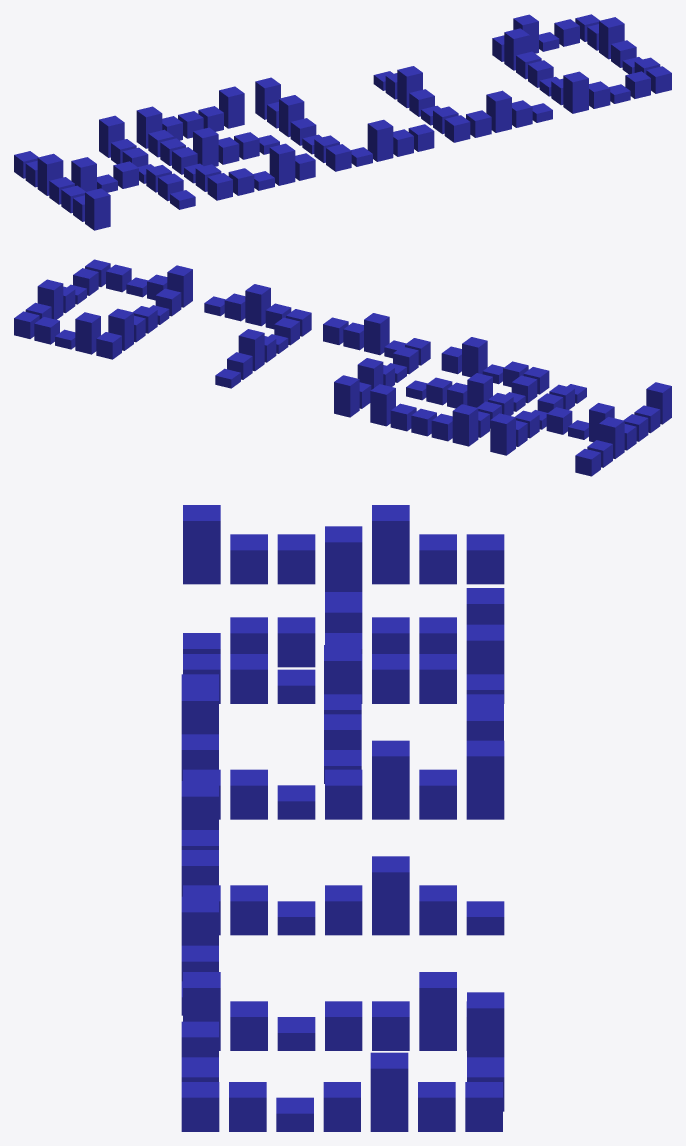
Rendered from Hello.glb.
3 renders of one model, top to bottom at view 1: azimuth 30°, elevation 25°; view 2: azimuth 150°, elevation 25°; view 3: azimuth 270°, elevation 25°, orthographic. The views are drawn at different scales.
Parts seen in each view (by area): view 1: Box001; view 2: Box001; view 3: Box001.
Part boxes in pixels (x1,y1,x2,y2): Box001: [14, 14, 671, 230]; Box001: [14, 259, 671, 476]; Box001: [181, 505, 504, 1131].
Size of the model in its own units: 35.5 by 1.86 by 8.6.
